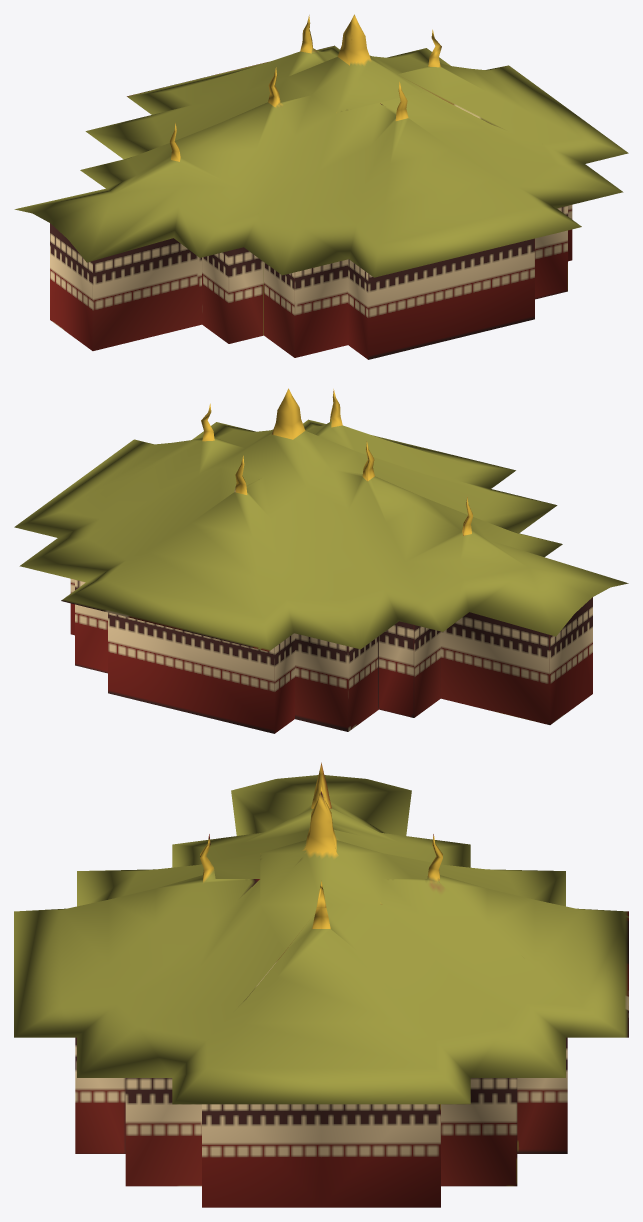
Rendered from shintotemple.fbx.
3 views of the same model, one above another, from view 1: azimuth 30°, elevation 25°; view 2: azimuth 150°, elevation 25°; view 3: azimuth 270°, elevation 25° (orthographic). The views are drawn at different scales.
Visible parts, largest first — view 1: Plane; view 2: Plane; view 3: Plane.
Part boxes in pixels (left/top/right/bottom): Plane: left=14, top=14, right=628, bottom=359; Plane: left=14, top=388, right=628, bottom=733; Plane: left=14, top=762, right=628, bottom=1207.
Bounding box in the file's own units: 5.69 × 2.65 × 4.71.
